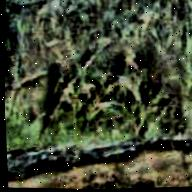boar: (16, 40, 192, 153)
